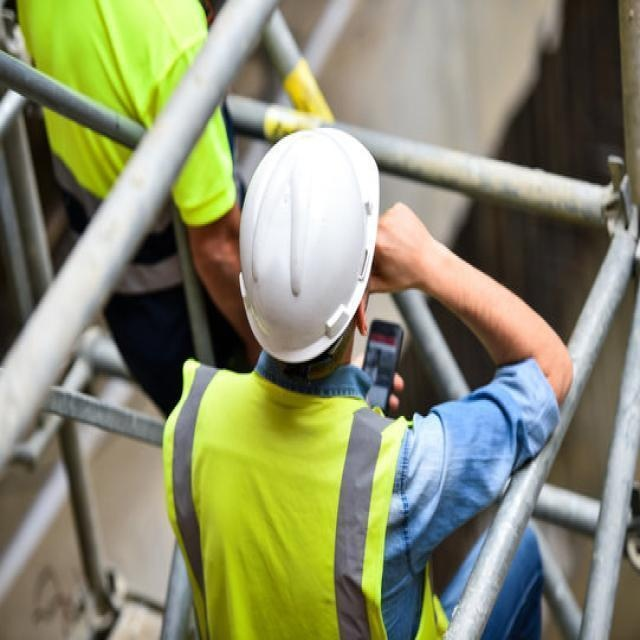Arnes_seguridad: (161, 353, 446, 637)
